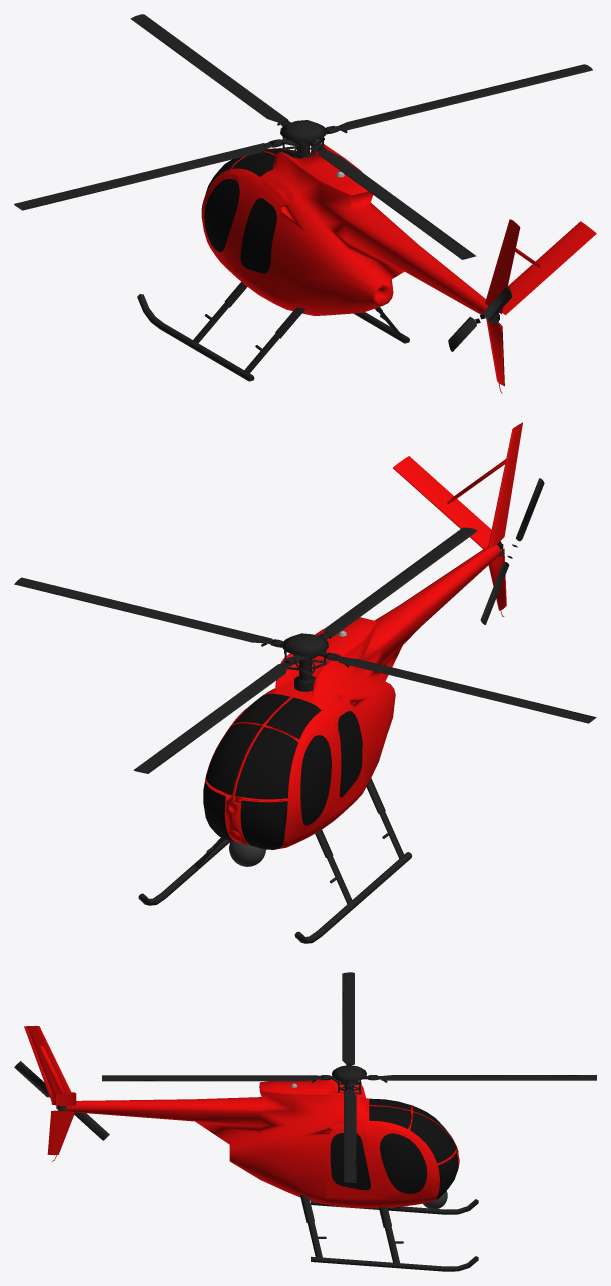
Rendered from helicopter.obj.
The picture shows the model from 3 angles, top to bottom: view 1: azimuth 30°, elevation 25°; view 2: azimuth 150°, elevation 25°; view 3: azimuth 270°, elevation 25°; orthographic projection. The views are drawn at different scales.
Parts seen in each view (by area): view 1: Object08, Box06, Object31, Object33, Object32, Object34, glass10, Object39, glass09, Object41, Cylinder01, Line01 (+4 smaller); view 2: Object08, Box06, Object16, Object33, Object31, Object34, Object39, glass09, Object32, glass3, Object37, glass10 (+9 smaller); view 3: Object39, Box06, glass08, Object32, Object36, Object34, glass07, Object08, Object33, Object31, Object37, Object35 (+8 smaller).
Boxes of the visible parts, box(x1,y1,x2,y2) form: Object08: box(201, 151, 488, 315); Box06: box(485, 219, 596, 393); Object31: box(14, 139, 298, 210); Object33: box(325, 64, 592, 134); Object32: box(308, 138, 476, 259); Object34: box(130, 14, 290, 126); glass10: box(240, 198, 276, 273); Object39: box(264, 143, 485, 305); glass09: box(204, 179, 239, 252); Object41: box(234, 187, 282, 296); Cylinder01: box(280, 120, 326, 158); Line01: box(137, 294, 254, 381); Object08: box(232, 544, 500, 849); Box06: box(393, 422, 522, 616); Object16: box(235, 727, 298, 799); Object33: box(14, 577, 285, 653); Object31: box(316, 650, 596, 723); Object34: box(133, 655, 311, 773); Object39: box(205, 546, 488, 843); glass09: box(300, 735, 331, 825); Object32: box(318, 527, 477, 639); glass3: box(240, 800, 287, 849); Object37: box(205, 723, 261, 795); glass10: box(338, 711, 362, 797); Object39: box(66, 1086, 459, 1208); Box06: box(24, 1026, 76, 1161); glass08: box(380, 1133, 427, 1193); Object32: box(102, 1075, 338, 1083); Object36: box(325, 1127, 381, 1199); Object34: box(363, 1075, 596, 1082); glass07: box(330, 1133, 370, 1190); Object08: box(76, 1079, 459, 1158); Object33: box(344, 1081, 361, 1182); Object31: box(342, 972, 354, 1065); Object37: box(410, 1112, 456, 1163); Object35: box(376, 1130, 432, 1198).
Size of the model in its own units: 9.23 by 4.44 by 10.86.
